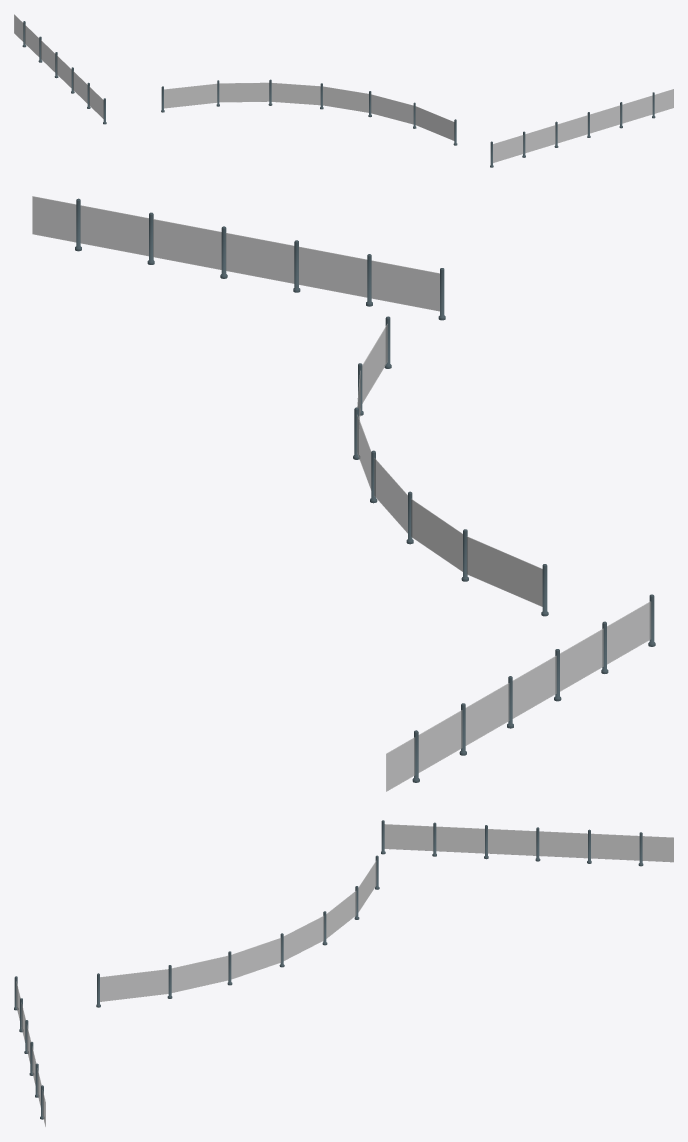
File: Barriers.glb
The picture shows the model from 3 angles, top to bottom: view 1: azimuth 30°, elevation 25°; view 2: azimuth 150°, elevation 25°; view 3: azimuth 270°, elevation 25°; orthographic projection. The views are drawn at different scales.
Visible parts, largest first — view 1: Barriers; view 2: Barriers; view 3: Barriers.
Part boxes in pixels (<box>): Barriers: <box>14,14,673,167</box>; Barriers: <box>32,196,655,791</box>; Barriers: <box>14,820,673,1126</box>.
Size of what is drawn, in the model's own units: 23.35 by 1.28 by 23.27.
Materials: 2 (1 with a texture image).
